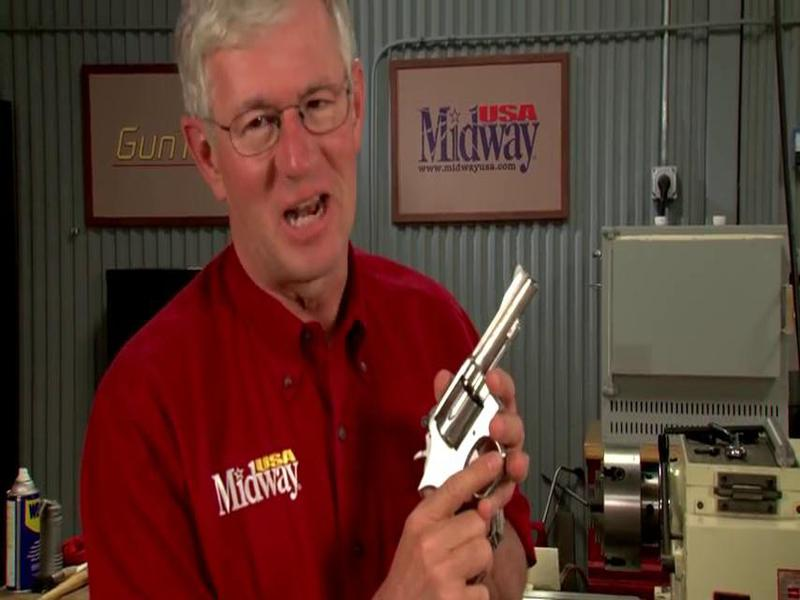Revolver: (412, 245, 566, 540)
